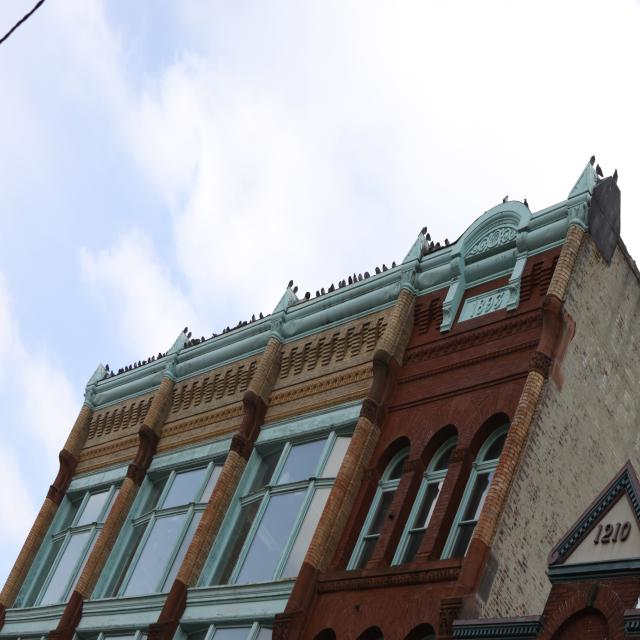bird: (503, 196, 508, 203)
